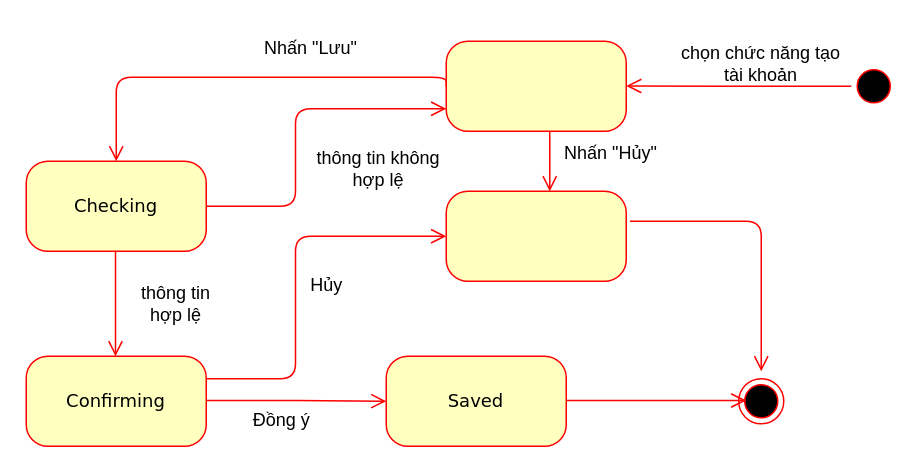
Some shapes in this 923 by 473 pixel diagram are drawn without their labels. The centre of each missing label's shape, as x and y in pixels:
Adding: [535,85]
Canceled: [535,235]
